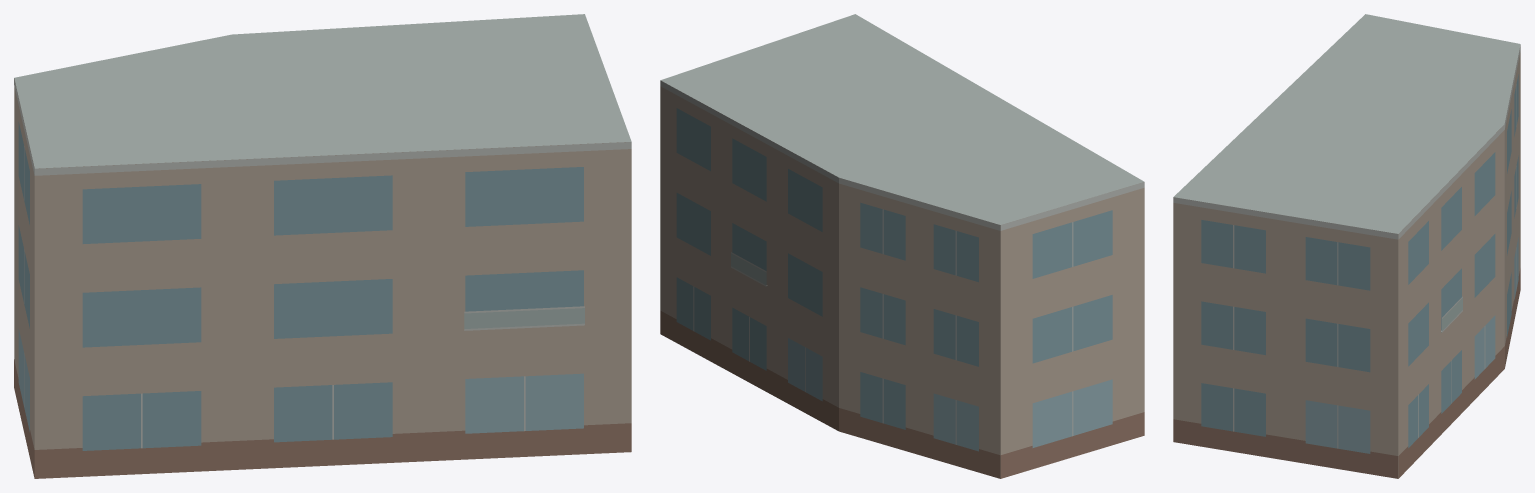
The model's file is survey-upis-32492184.glb.
3 renders of one model, left to right at view 1: azimuth 30°, elevation 25°; view 2: azimuth 150°, elevation 25°; view 3: azimuth 270°, elevation 25°, orthographic. The views are drawn at different scales.
Visible parts, largest first — view 1: survey-upis-32492184.tmp; view 2: survey-upis-32492184.tmp; view 3: survey-upis-32492184.tmp.
Boxes of the visible parts, box(x1,y1,x2,y2) form: survey-upis-32492184.tmp: box(14, 14, 631, 478); survey-upis-32492184.tmp: box(660, 14, 1144, 478); survey-upis-32492184.tmp: box(1173, 14, 1520, 478).
Bounding box in the file's own units: 20.24 × 10.5 × 13.51.
